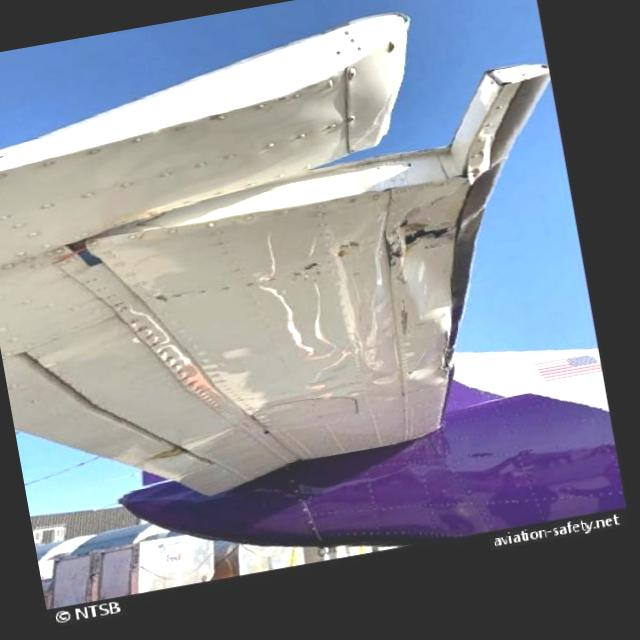dent: (398, 351, 439, 392)
